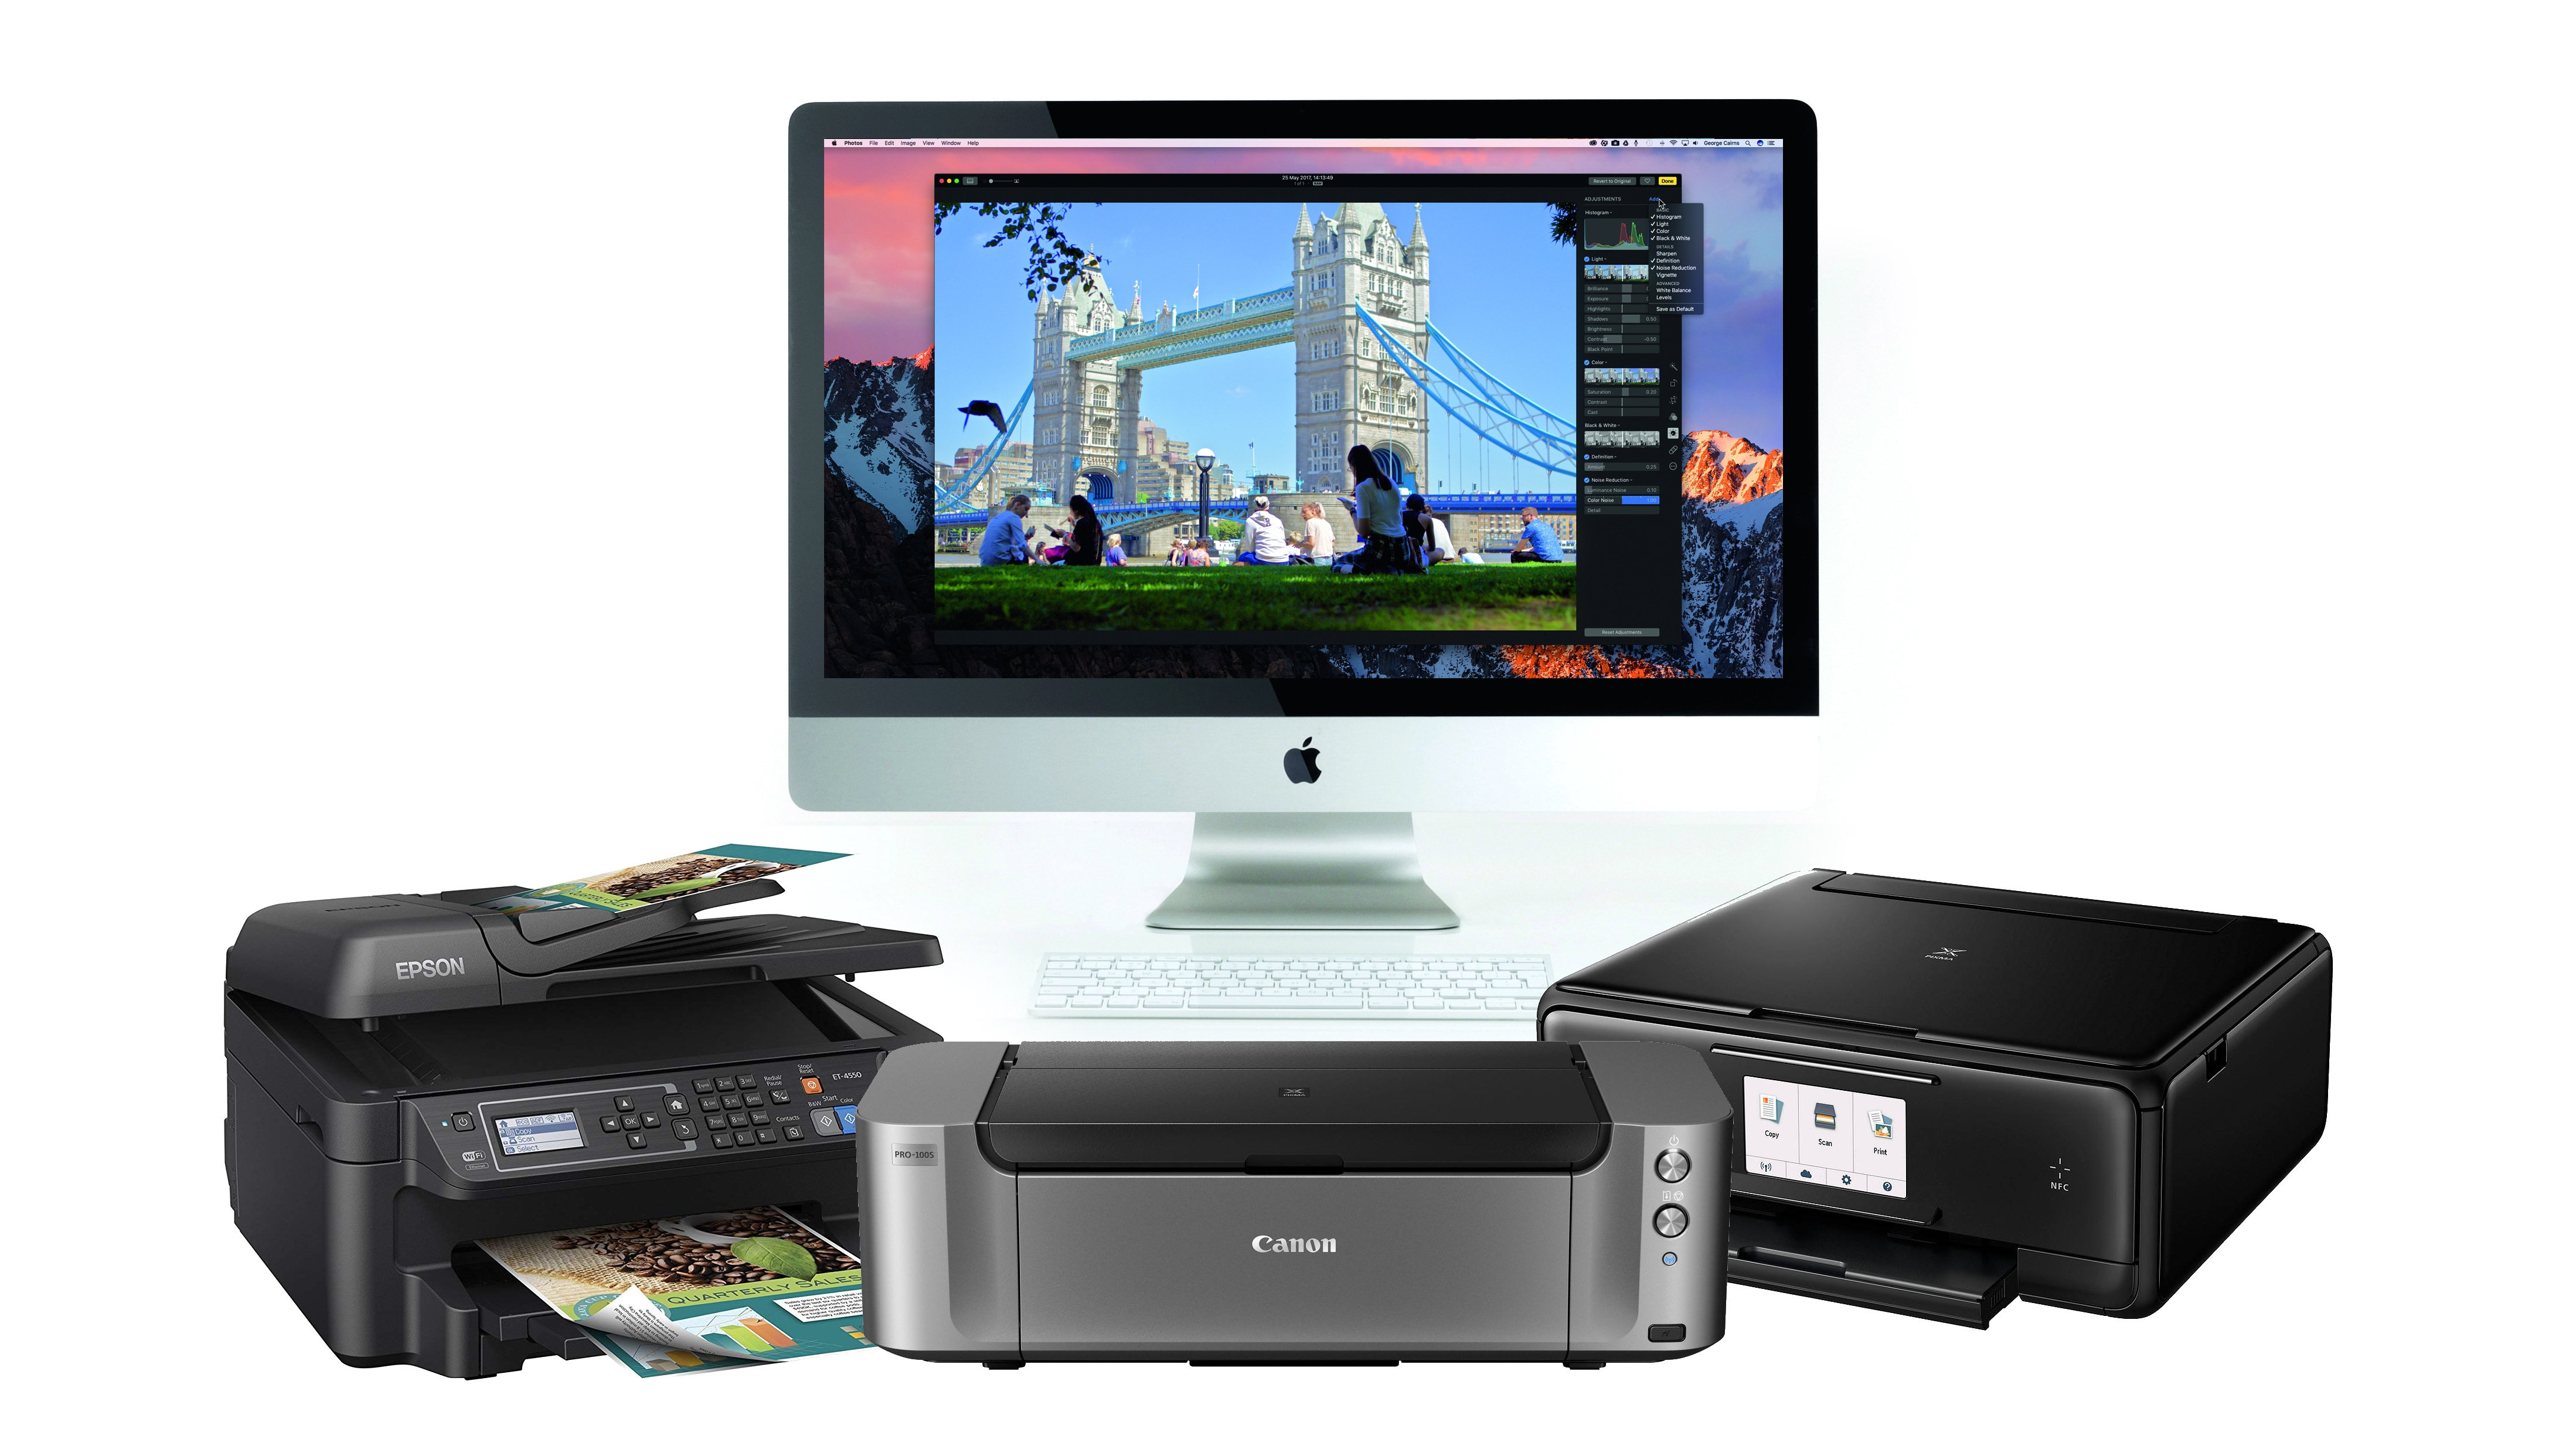printer: (184, 835, 957, 1378), (1541, 860, 2357, 1341), (842, 1019, 1752, 1399)
